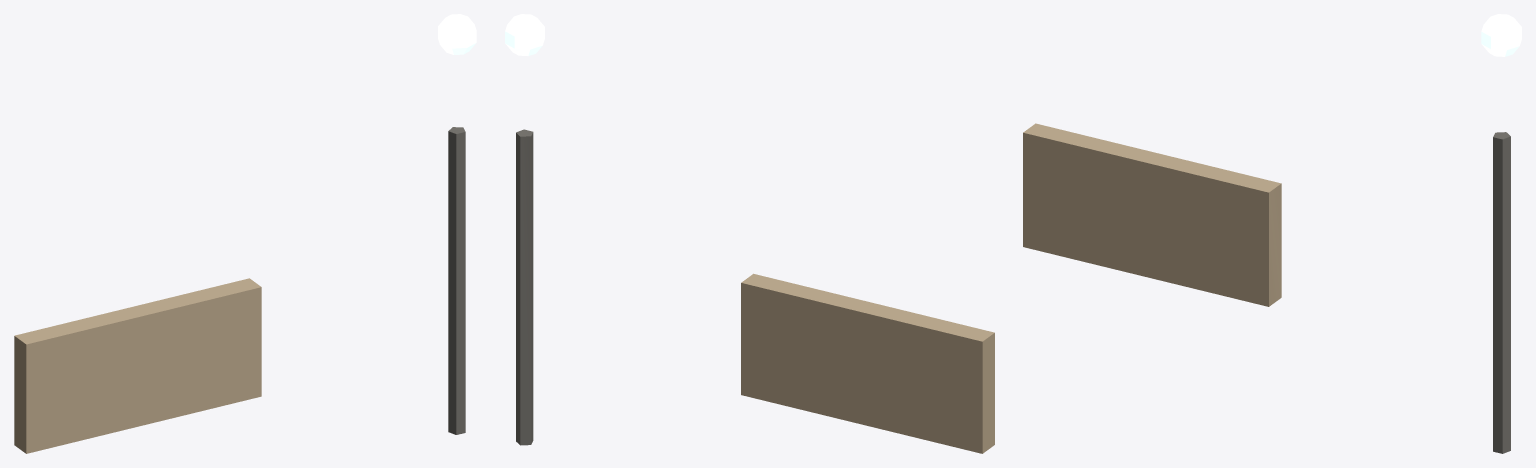
The model's file is workshop_l4.glb.
3 renders of one model, left to right at view 1: azimuth 30°, elevation 25°; view 2: azimuth 150°, elevation 25°; view 3: azimuth 330°, elevation 25°, orthographic. The views are drawn at different scales.
Parts seen in each view (by area): view 1: wantenna; view 2: wantenna; view 3: wantenna.
Part boxes in pixels (bbox=[...]): wantenna: bbox=[14, 14, 476, 453]; wantenna: bbox=[505, 14, 994, 453]; wantenna: bbox=[1023, 14, 1521, 453].
Bounding box in the file's own units: 1.77 × 1.52 × 0.1566.
